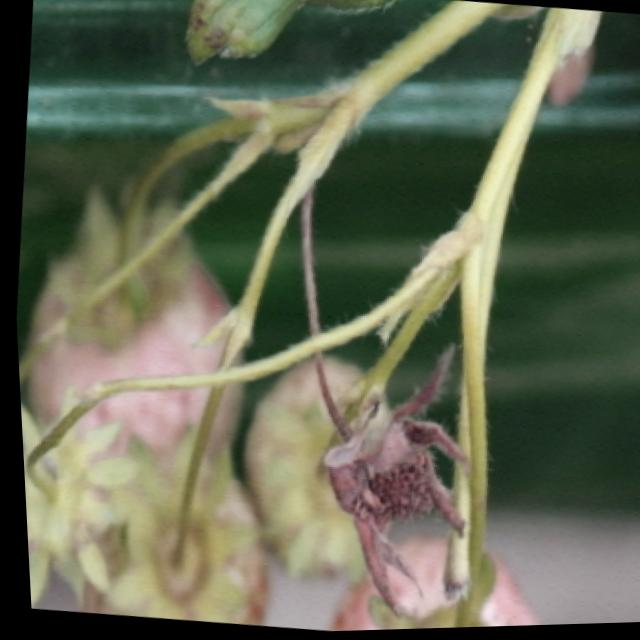Gray Mold: (318, 344, 464, 618)
